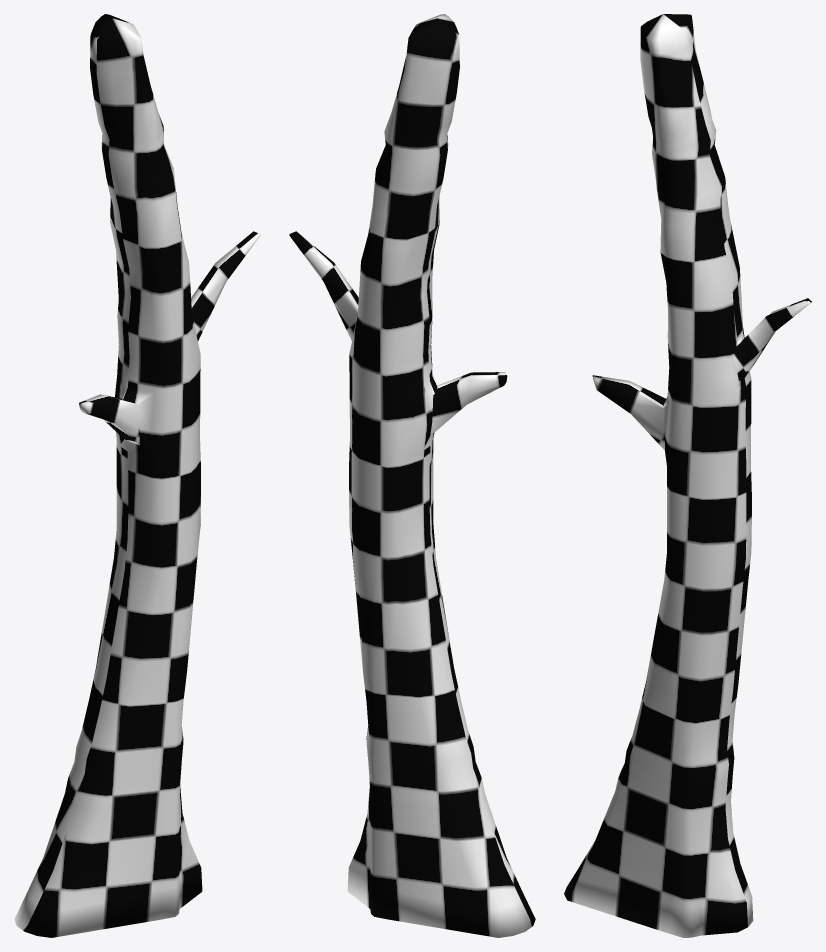
Rendered from tree02.obj.
The picture shows the model from 3 angles, left to right: view 1: azimuth 30°, elevation 25°; view 2: azimuth 150°, elevation 25°; view 3: azimuth 330°, elevation 25°; orthographic projection.
Visible parts, largest first — view 1: Cylinder001; view 2: Cylinder001; view 3: Cylinder001.
Boxes of the visible parts, box(x1,y1,x2,y2) form: Cylinder001: box(14, 14, 260, 937); Cylinder001: box(289, 14, 535, 937); Cylinder001: box(564, 14, 811, 937).
Size of the model in its own units: 1139 by 4058 by 359.
Materials: 1 (1 with a texture image).
